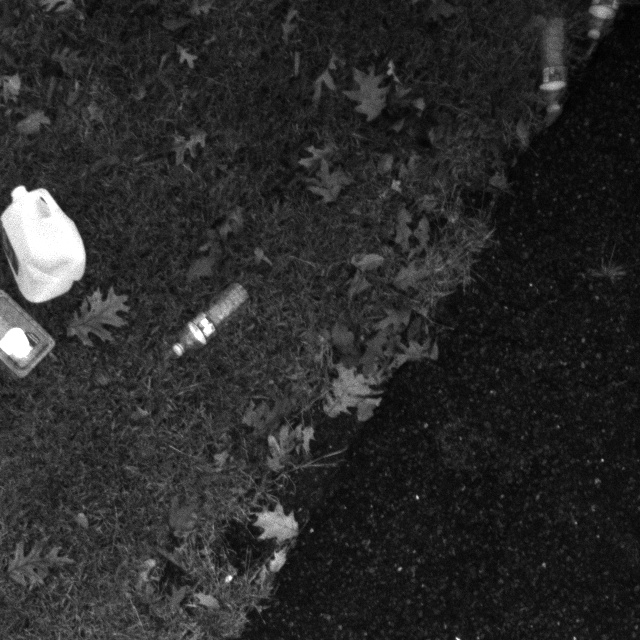bottle: (174, 283, 252, 359), (534, 14, 574, 121)
can: (0, 174, 91, 312)
container: (0, 282, 64, 387)
